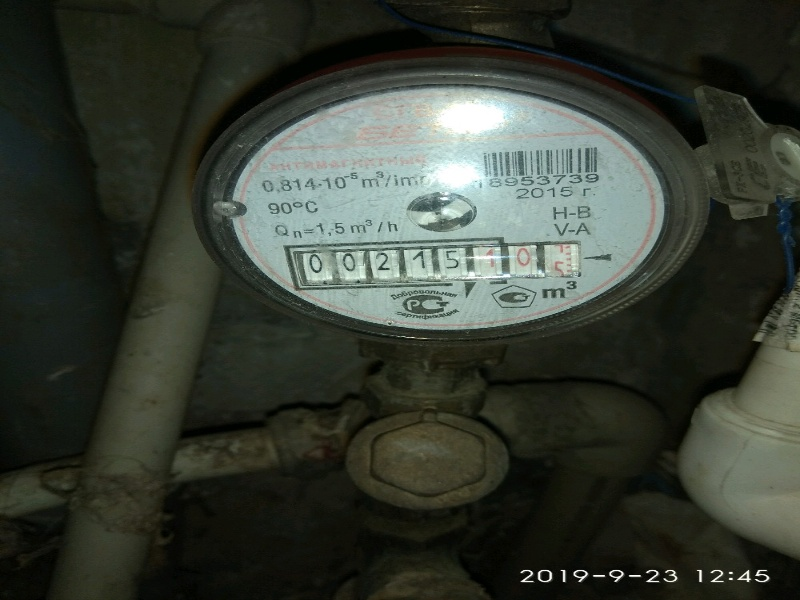meter: (277, 242, 579, 283)
